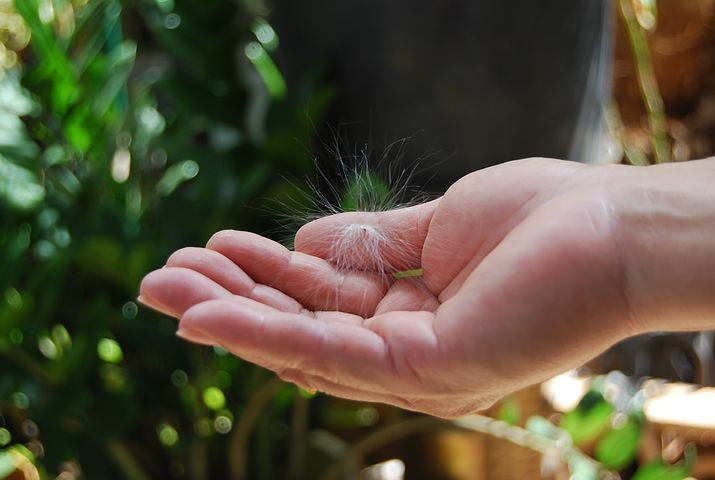palmhand: (143, 158, 603, 377)
